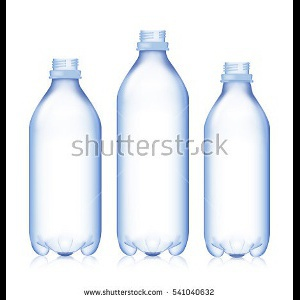emptybottle: (116, 30, 189, 258), (29, 58, 103, 256), (203, 63, 270, 258)
